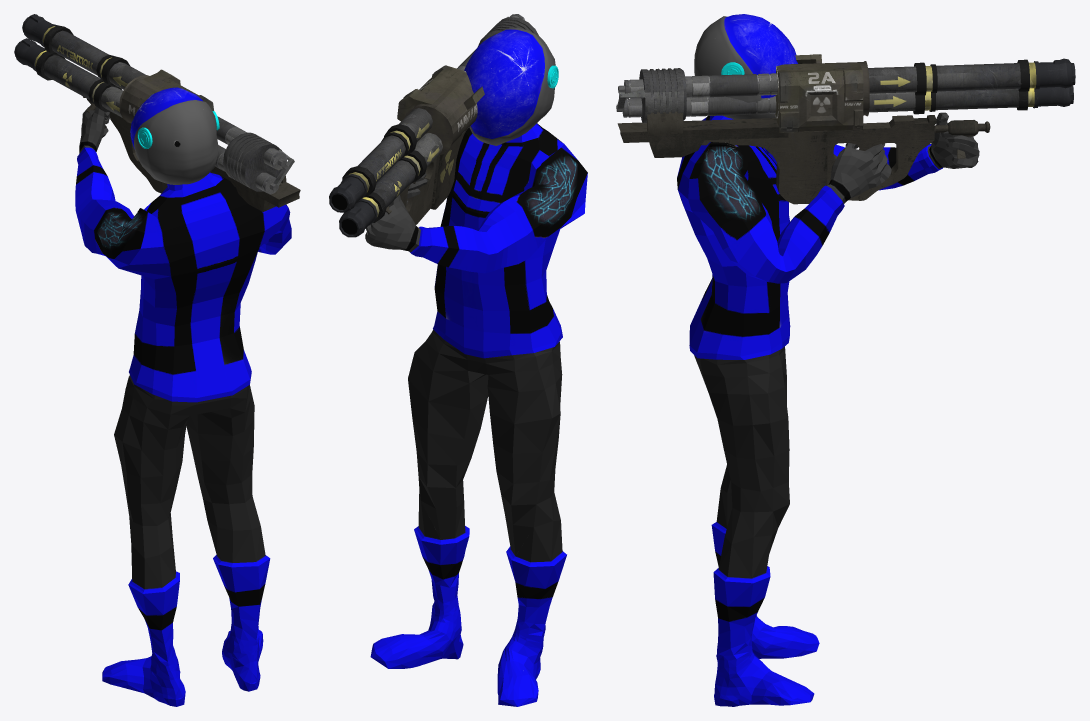
The picture shows the model from 3 angles, left to right: view 1: azimuth 30°, elevation 25°; view 2: azimuth 150°, elevation 25°; view 3: azimuth 270°, elevation 25°; orthographic projection. The views are drawn at different scales.
Visible parts, largest first — view 1: Brazos2, Piernas1, group1_polySurface5, Cabeza1; view 2: Piernas1, Brazos2, group1_polySurface5, Cabeza1; view 3: group1_polySurface5, Brazos2, Piernas1, Cabeza1.
Boxes of the visible parts, bbox=[...] form: Brazos2: bbox=[75, 106, 291, 402]; Piernas1: bbox=[102, 375, 270, 706]; group1_polySurface5: bbox=[14, 14, 300, 211]; Cabeza1: bbox=[130, 87, 219, 184]; Piernas1: bbox=[370, 329, 566, 706]; Brazos2: bbox=[365, 123, 587, 358]; group1_polySurface5: bbox=[329, 14, 539, 237]; Cabeza1: bbox=[464, 27, 558, 145]; group1_polySurface5: bbox=[616, 54, 1075, 204]; Brazos2: bbox=[677, 112, 979, 359]; Piernas1: bbox=[694, 346, 819, 706]; Cabeza1: bbox=[694, 14, 797, 119].
Bounding box in the file's own units: 55.29 × 177 × 113.
